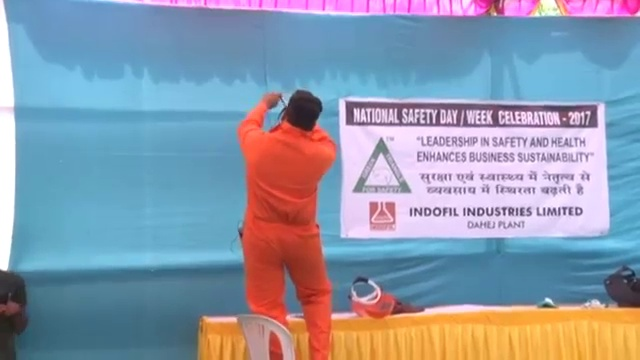helmet_off: (286, 90, 324, 132)
person: (233, 90, 336, 360)
